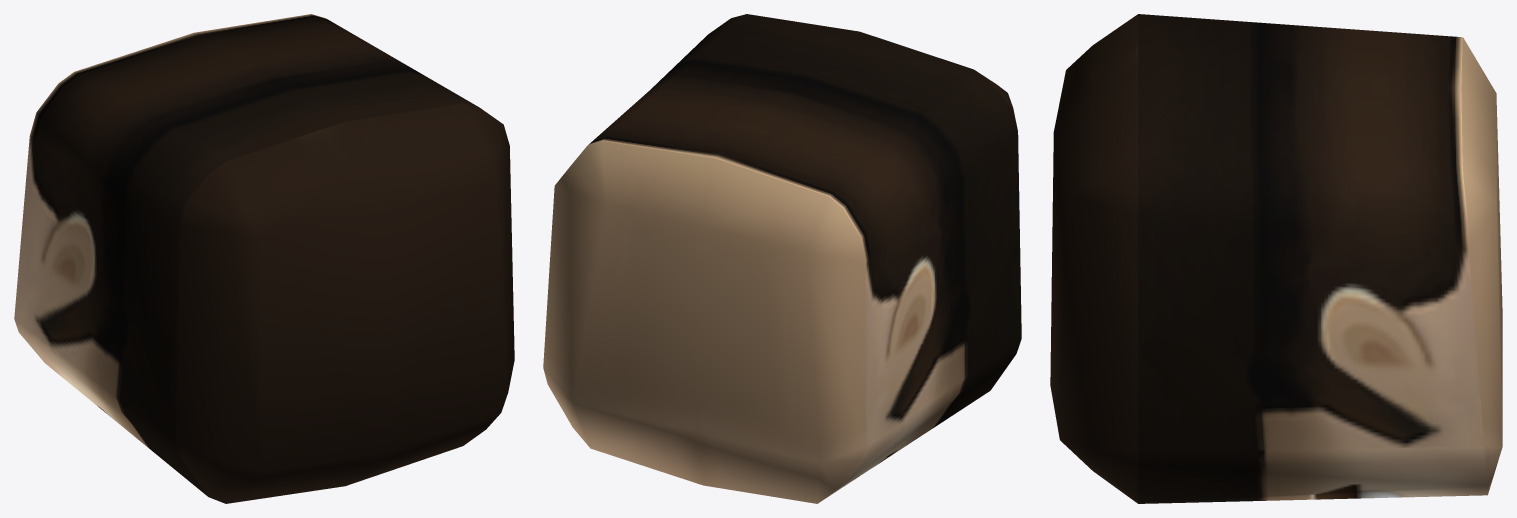
Rendered from Avatar_Mike_H_Head_2_191ac5e3__Avatar_Mike_A_42dd2b47_c1f257.obj.
3 renders of one model, left to right at view 1: azimuth 30°, elevation 25°; view 2: azimuth 150°, elevation 25°; view 3: azimuth 270°, elevation 25°, orthographic. The views are drawn at different scales.
Size of the model in its own units: 0.6857 by 0.7049 by 0.7416.
1 material, 1 textured.
